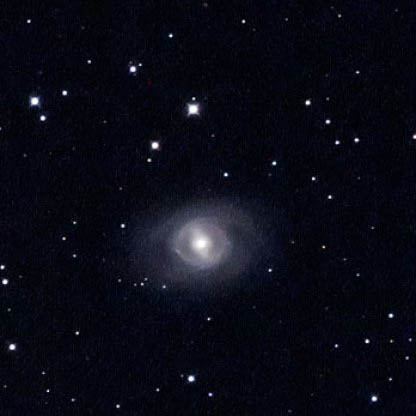Messier 95: (122, 184, 291, 293)
